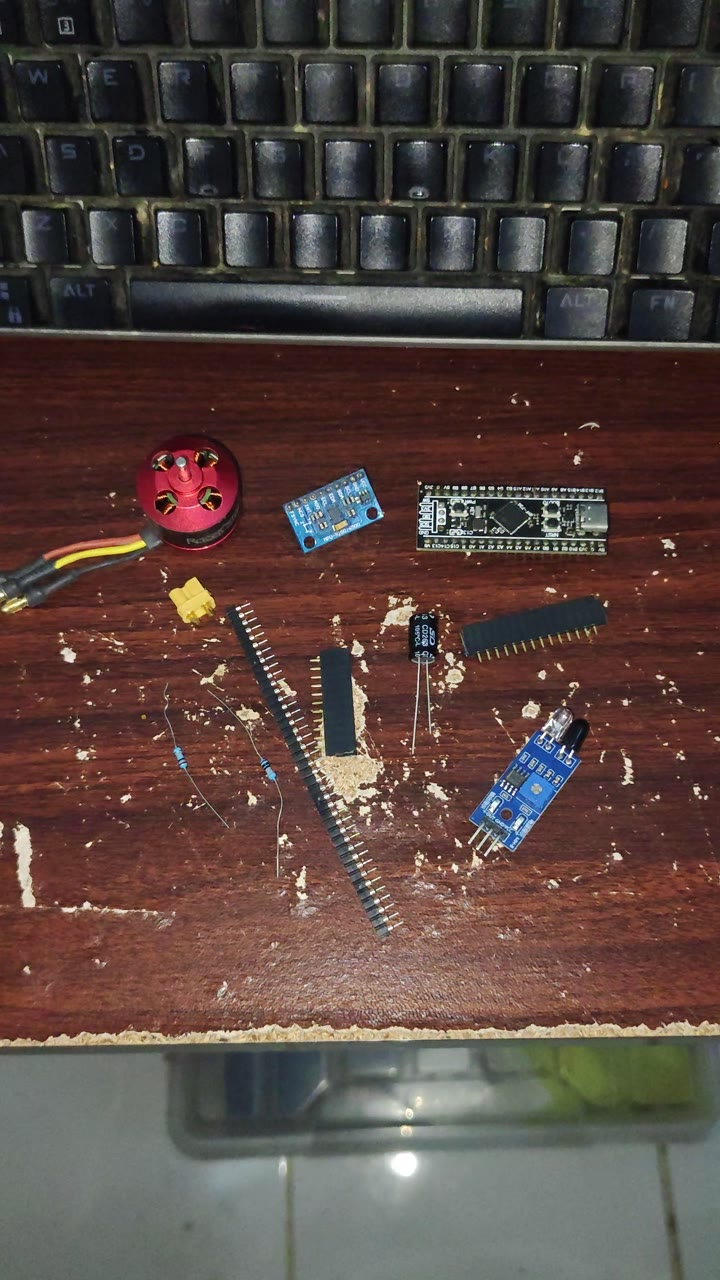bldc_motor: (105, 446, 231, 532)
elco_capacitor: (430, 568, 492, 680)
ir_sensor: (494, 727, 583, 855)
mpu6500: (295, 465, 438, 539)
pin_header: (255, 578, 464, 906), (489, 543, 642, 646), (348, 597, 419, 721)
resistor: (261, 669, 353, 822), (183, 668, 273, 792)
stm32f4: (428, 437, 675, 535)
xt30_female: (188, 527, 278, 616)
